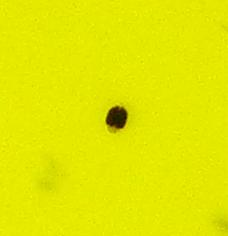Coleoptera: (100, 100, 128, 136)
